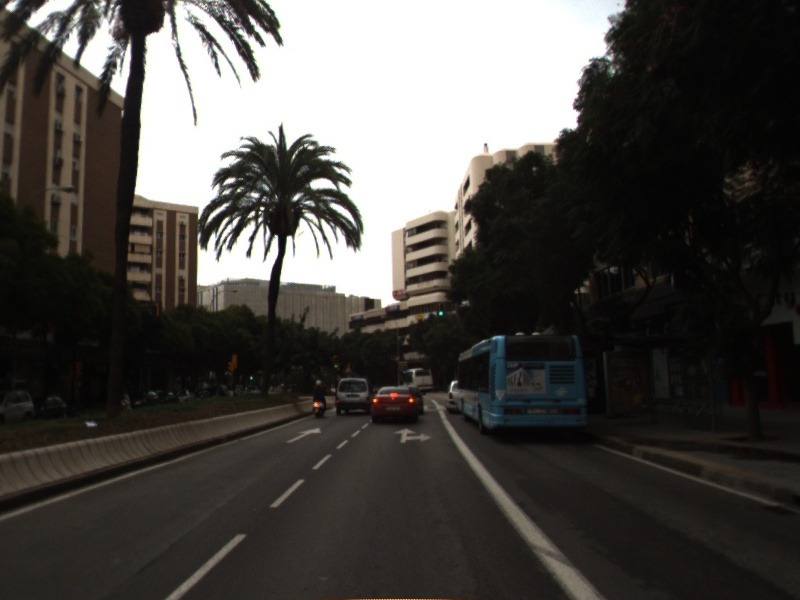STRAIGHT: (283, 425, 324, 445)
STRAIGHT_RIGHT: (391, 426, 434, 445)
